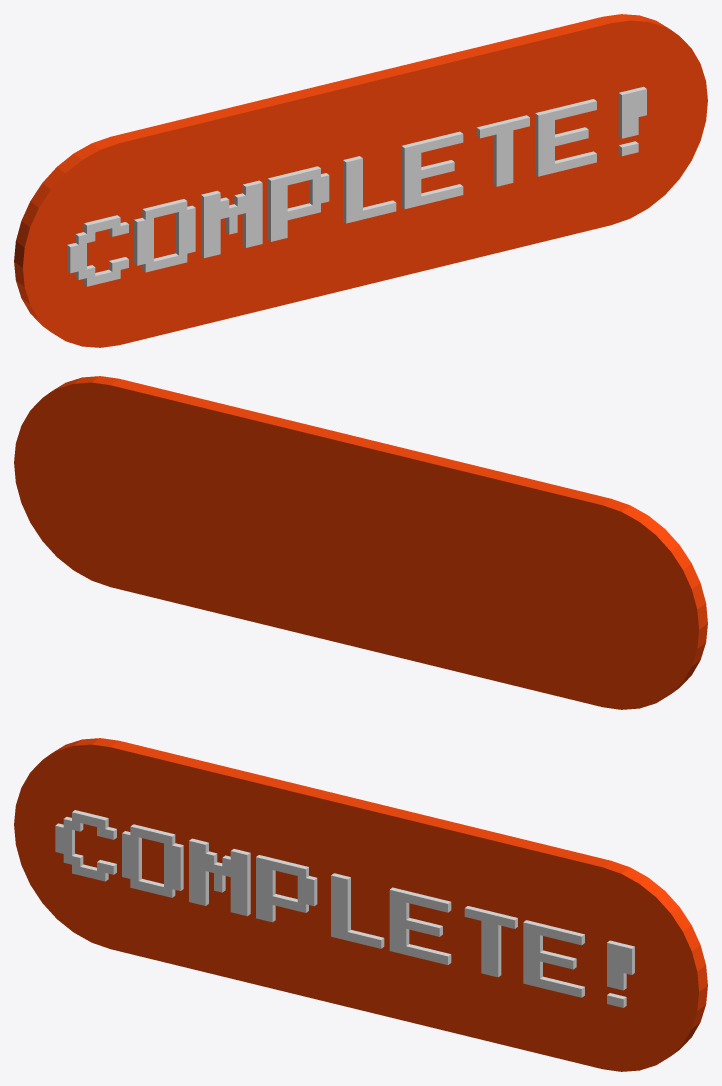
File: Complete_button.glb
The picture shows the model from 3 angles, top to bottom: view 1: azimuth 30°, elevation 25°; view 2: azimuth 150°, elevation 25°; view 3: azimuth 330°, elevation 25°; orthographic projection.
Parts seen in each view (by area): view 1: Button-complete; view 2: Button-complete; view 3: Button-complete.
Part boxes in pixels (x1,y1,x2,y2): Button-complete: (14, 14, 707, 347); Button-complete: (14, 376, 707, 709); Button-complete: (14, 738, 707, 1071).
Size of the model in its own units: 1.63 by 0.458 by 0.0493.
